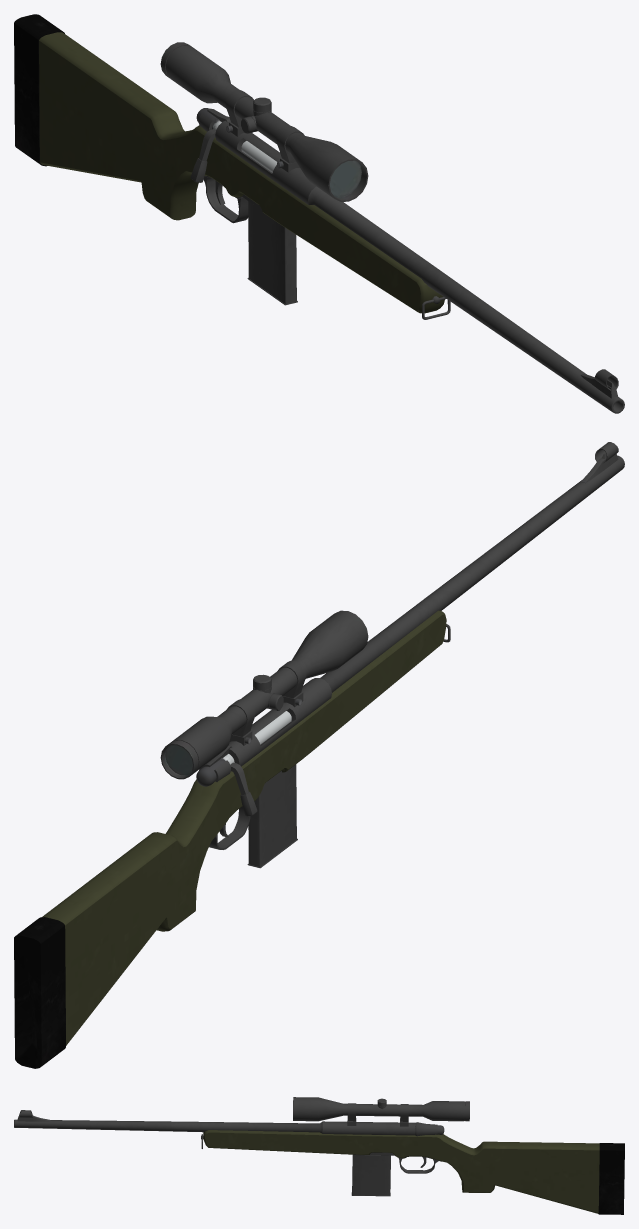
Rendered from scoped_rifle.medium.glb.
3 renders of one model, top to bottom at view 1: azimuth 30°, elevation 25°; view 2: azimuth 150°, elevation 25°; view 3: azimuth 270°, elevation 25°, orthographic. The views are drawn at different scales.
Parts seen in each view (by area): view 1: Trigger; view 2: Trigger; view 3: Trigger.
Part boxes in pixels (x1,y1,x2,y2): Trigger: (14, 14, 624, 413); Trigger: (14, 442, 624, 1068); Trigger: (14, 1097, 624, 1214).
Bounding box in the file's own units: 0.0571 × 0.2384 × 1.15.
Materials: 1 (1 with a texture image).
